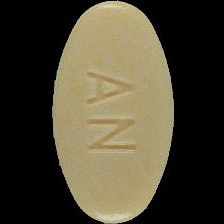65162-768: (0, 0, 224, 224)
